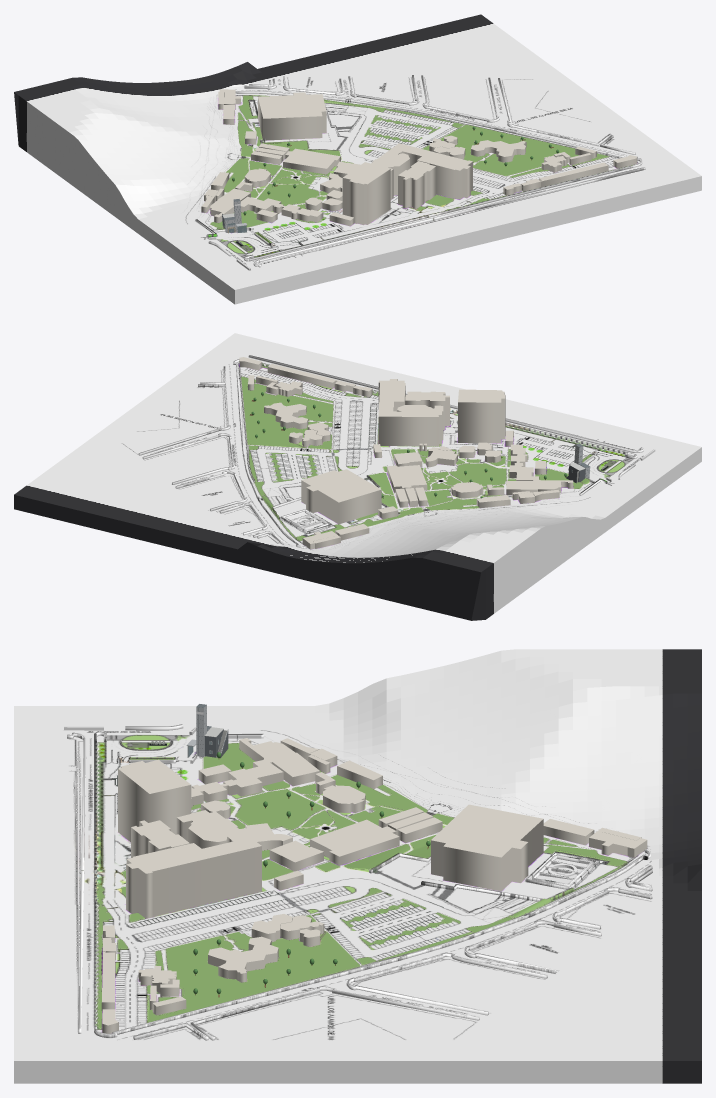
File: campus.fbx
3 renders of one model, top to bottom at view 1: azimuth 30°, elevation 25°; view 2: azimuth 150°, elevation 25°; view 3: azimuth 270°, elevation 25°, orthographic. The views are drawn at different scales.
Parts seen in each view (by area): view 1: Base_Terreno, path16, path3, Jardines.034, path55, path30, path4, path84, path38, Estacionamientos, path6, Jardines.046 (+6 smaller); view 2: Base_Terreno, path3, path16, Jardines.034, path30, path55, Estacionamientos, path38, path84, Jardines.046, path6, path20 (+9 smaller); view 3: Base_Terreno, path3, Jardines.034, path16, path30, path55, path38, Estacionamientos, path6, Jardines.046, path20, Estacionamientos.001 (+22 smaller).
Part boxes in pixels (x1,y1,x2,y2): Base_Terreno: (14, 14, 701, 304); path16: (258, 92, 326, 140); path3: (371, 143, 472, 199); Jardines.034: (440, 125, 607, 175); path55: (235, 91, 642, 261); path30: (342, 162, 390, 224); path4: (398, 161, 436, 208); path84: (253, 167, 645, 267); path38: (217, 188, 323, 222); Estacionamientos: (348, 119, 446, 145); path6: (283, 148, 340, 174); Jardines.046: (257, 183, 318, 205); Base_Terreno: (14, 333, 701, 620); path3: (378, 379, 443, 445); path16: (301, 469, 381, 524); Jardines.034: (241, 376, 333, 447); path30: (458, 389, 505, 443); path55: (233, 359, 635, 548); Estacionamientos: (268, 449, 323, 483); path38: (506, 444, 539, 495); path84: (248, 355, 643, 452); Jardines.046: (450, 463, 506, 485); path6: (387, 465, 427, 492); path20: (264, 402, 308, 429); Base_Terreno: (14, 649, 701, 1083); path3: (126, 811, 261, 918); Jardines.034: (148, 932, 359, 1021); path16: (431, 804, 543, 891); path30: (118, 759, 191, 842); path55: (94, 733, 650, 1037); path38: (191, 752, 319, 807); Estacionamientos: (335, 898, 449, 950); path6: (310, 819, 399, 865); Jardines.046: (236, 789, 324, 829); path20: (208, 936, 278, 982); Estacionamientos.001: (138, 890, 288, 927).
Bounding box in the file's own units: 336 × 38 × 275.
110 materials, 33 textured.
